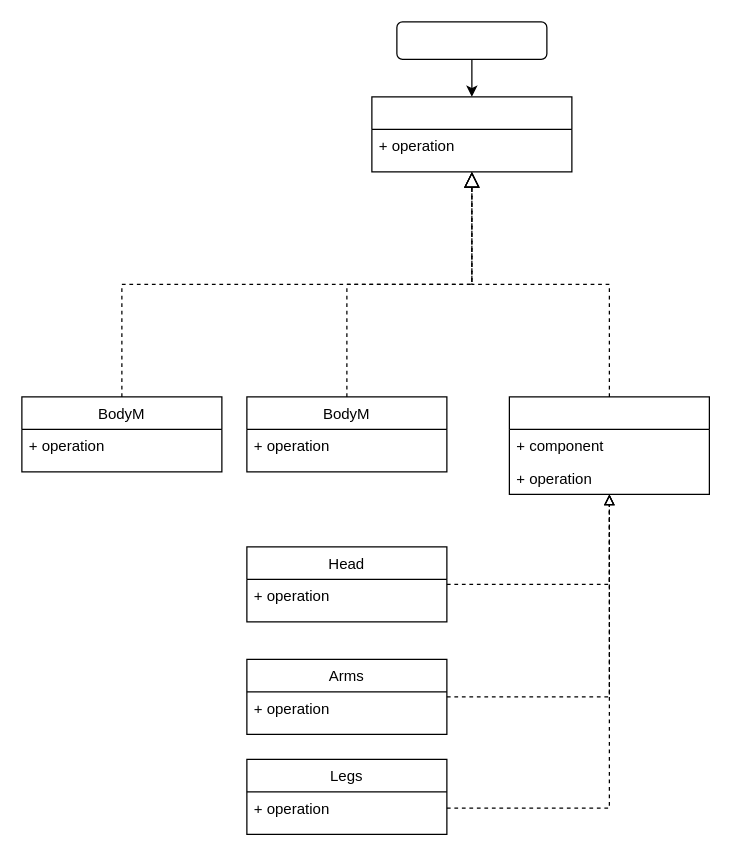
Some shapes in this 731 by 856 pixel diagram are drawn without their labels. Here are the shapes that lost their labels. From the top down, the box of each, then its label:
(396, 21, 547, 59): Client
(371, 96, 572, 172): Skeleton
(508, 396, 709, 494): Decorator
